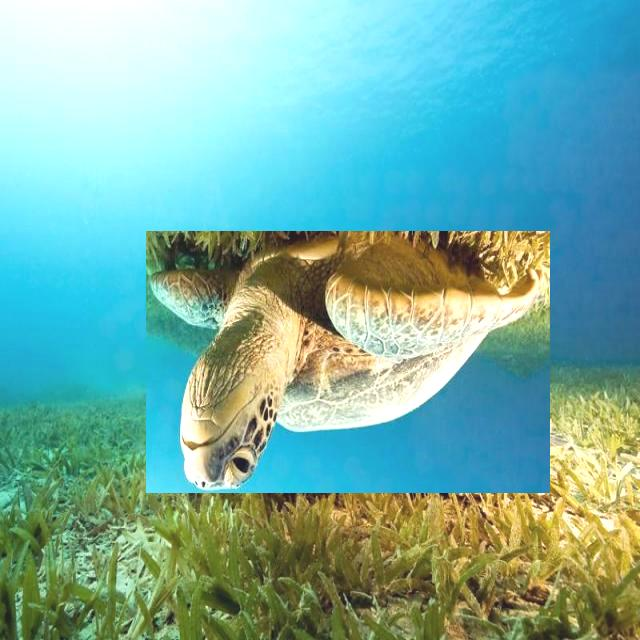Sea turtle: (146, 231, 550, 493)
